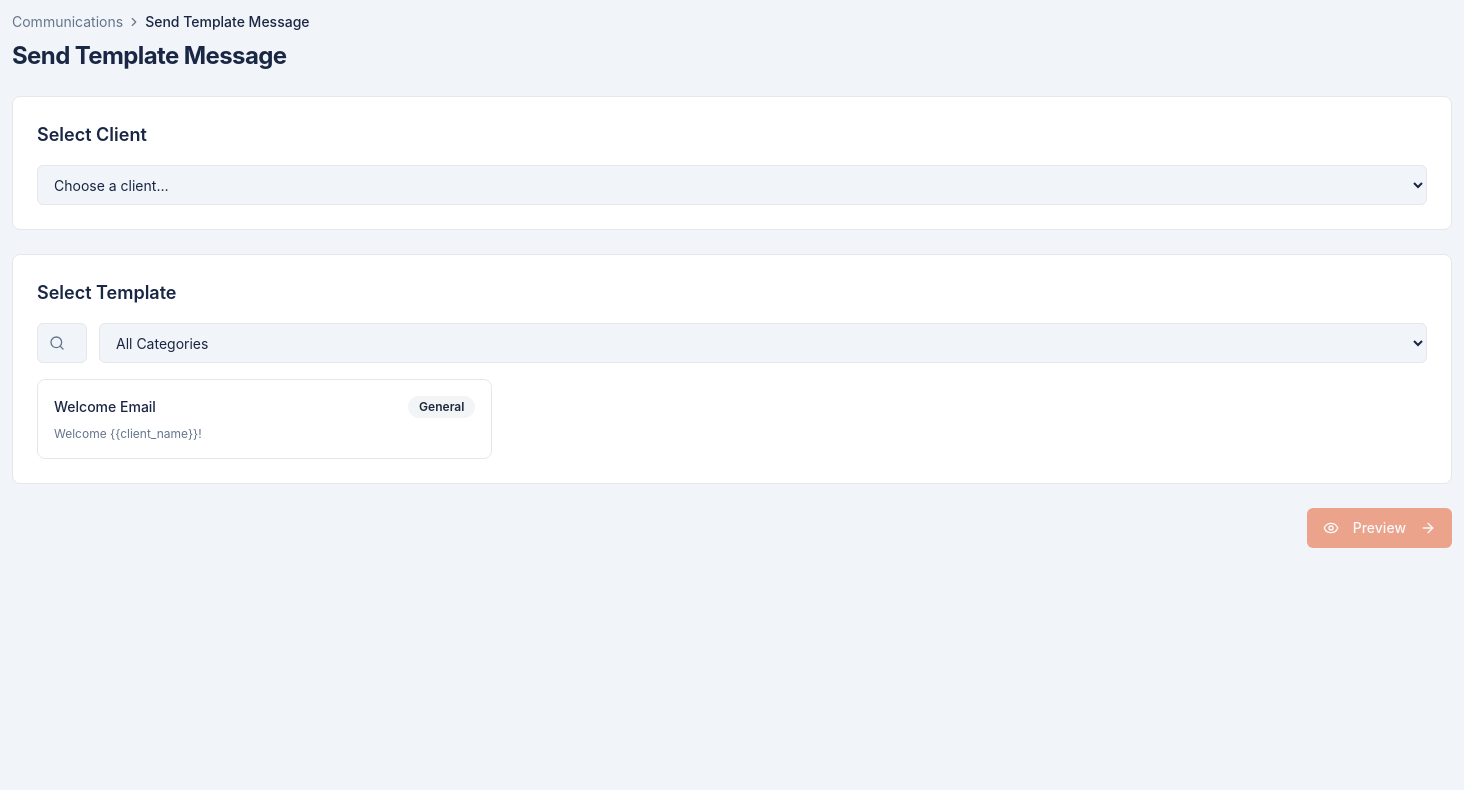
Test: SendTemplateView › shows merge fields section when a template is selected
Note: Select a template
Click the text "Welcome Email": coordinates (105, 407) [54,397,156,417]
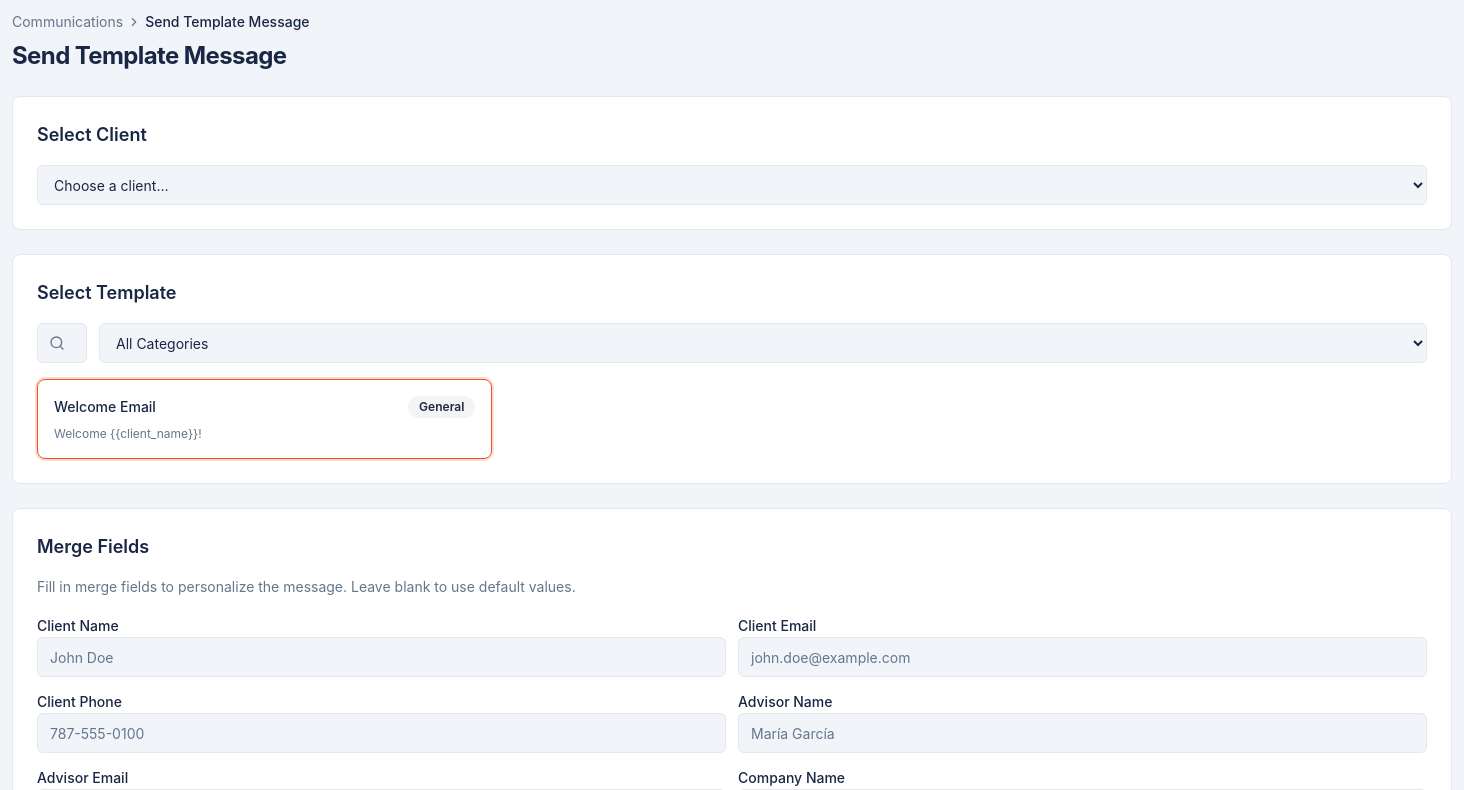
Now the heading "Merge Fields" is shown, box [37,536,149,557]
Now the text "Client Name" is shown, box [37,617,119,634]
